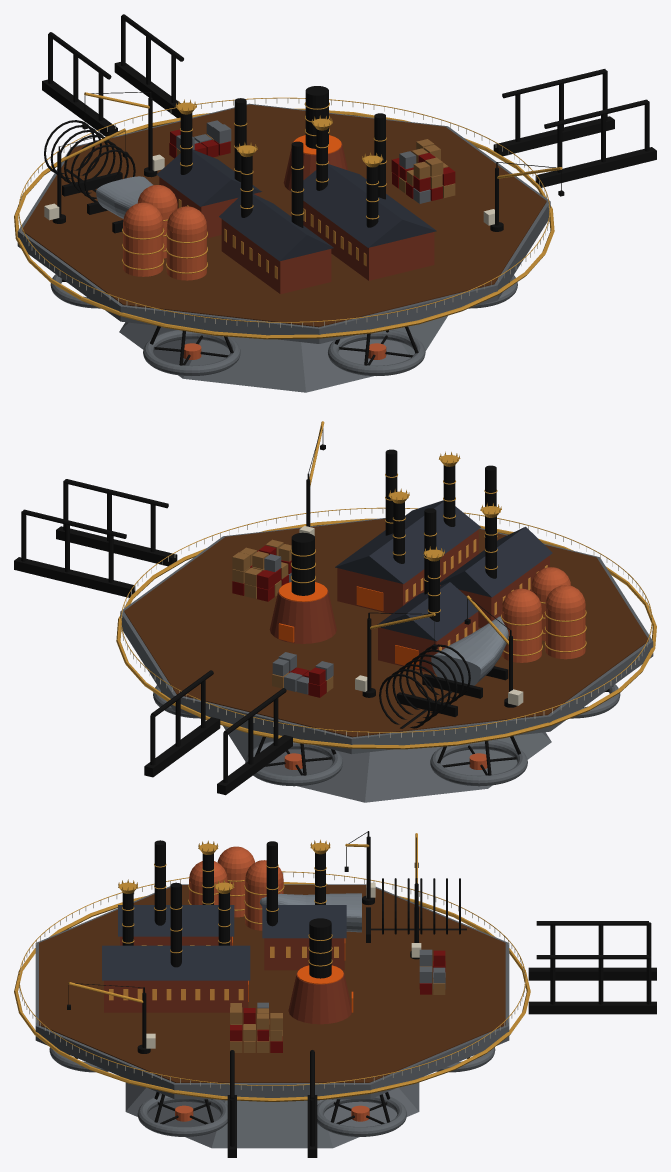
The model's file is station_industrial.obj.
3 renders of one model, top to bottom at view 1: azimuth 30°, elevation 25°; view 2: azimuth 150°, elevation 25°; view 3: azimuth 270°, elevation 25°, orthographic. The views are drawn at different scales.
Parts seen in each view (by area): view 1: station_industrial; view 2: station_industrial; view 3: station_industrial.
Part boxes in pixels (bbox=[...]): station_industrial: bbox=[14, 14, 656, 392]; station_industrial: bbox=[14, 421, 656, 802]; station_industrial: bbox=[14, 831, 656, 1157].
Bounding box in the file's own units: 1400 × 555 × 1400.
Materials: 1 (1 with a texture image).
